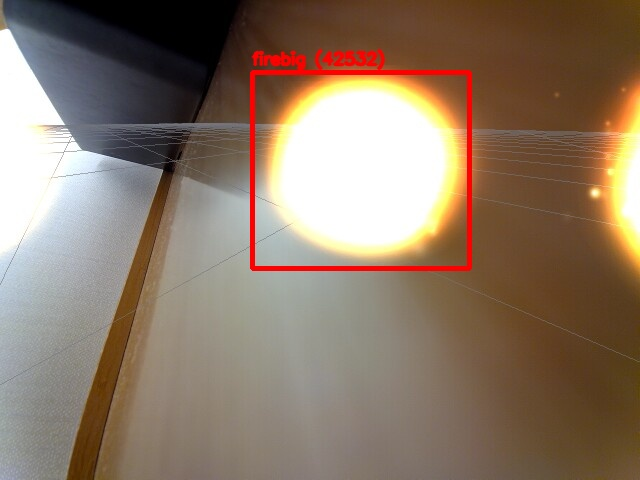firebig: (252, 72, 469, 268)
